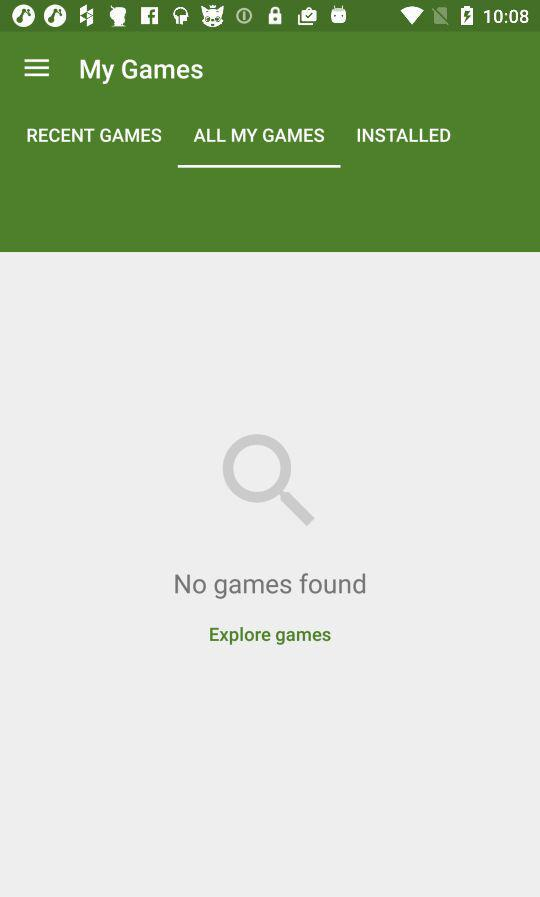Icon: (223, 434, 316, 527), (24, 58, 51, 78)
Text: (175, 572, 367, 600), (80, 60, 204, 86), (209, 626, 332, 646), (27, 128, 162, 144), (193, 129, 325, 144), (357, 128, 451, 144)
UpperTaskBar: (1, 1, 540, 33)
